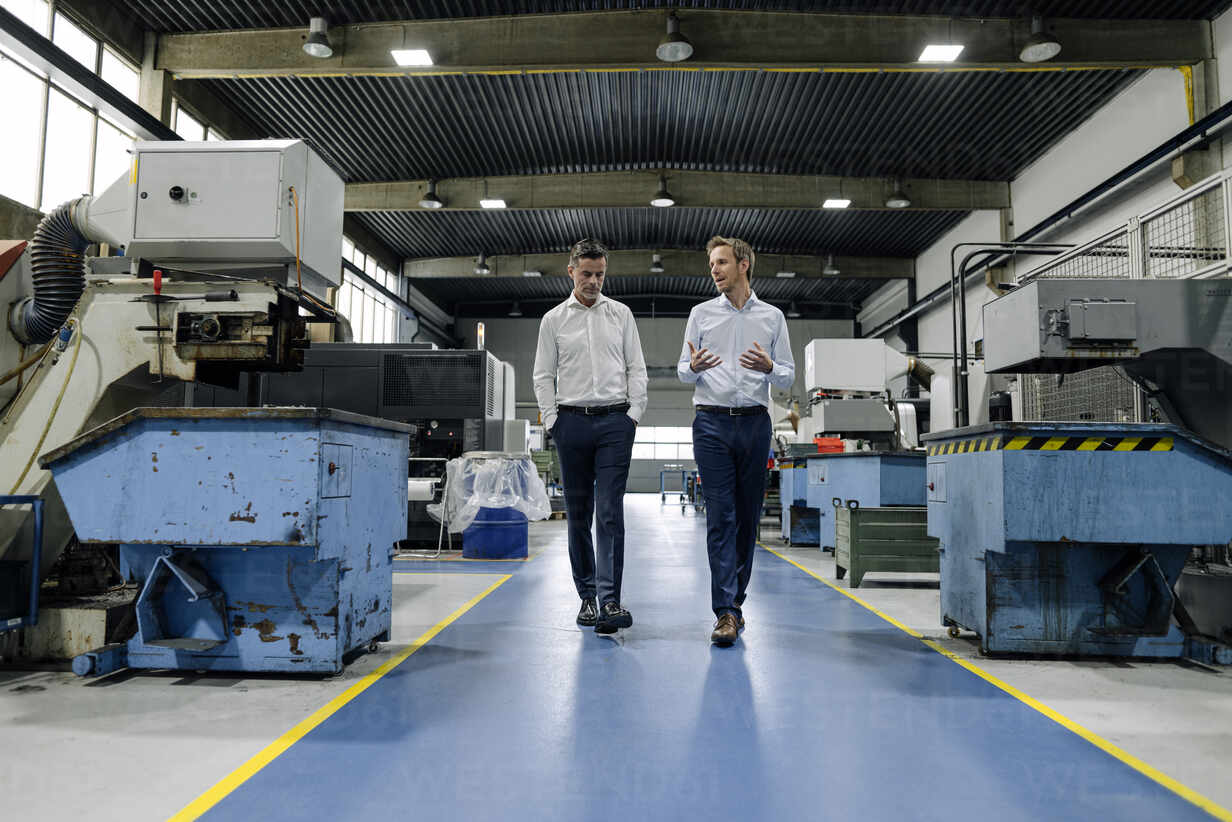person: (678, 238, 794, 646), (534, 241, 650, 633)
